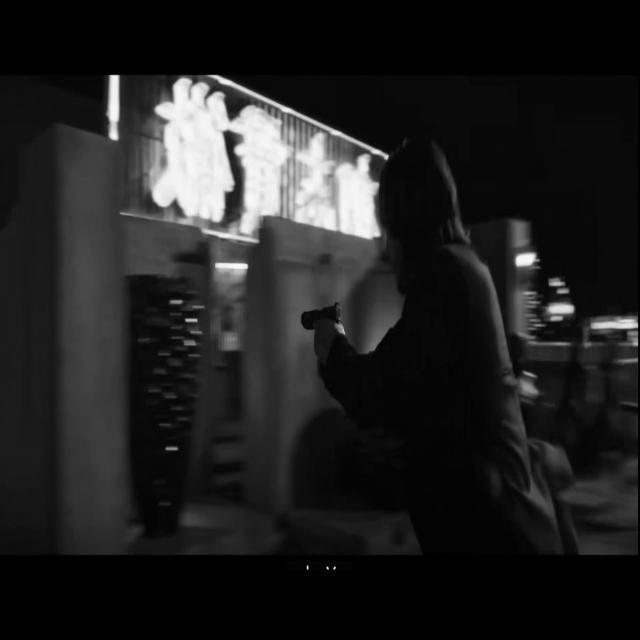weapons: (294, 284, 349, 376)
